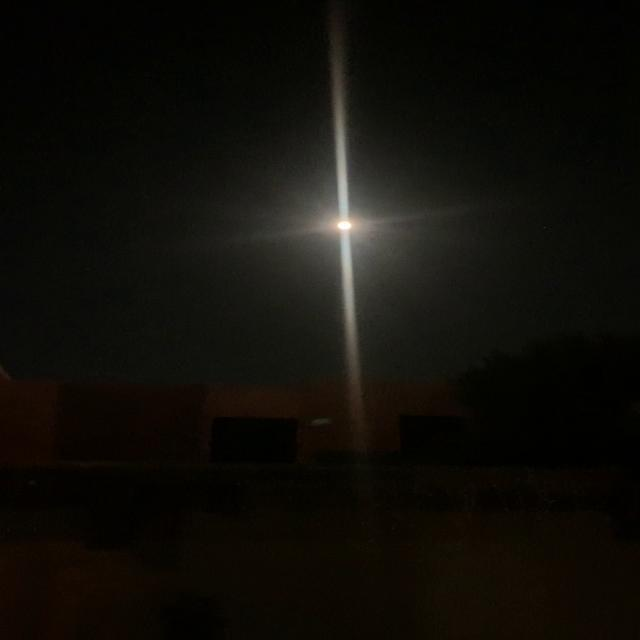moon: (317, 211, 362, 237)
